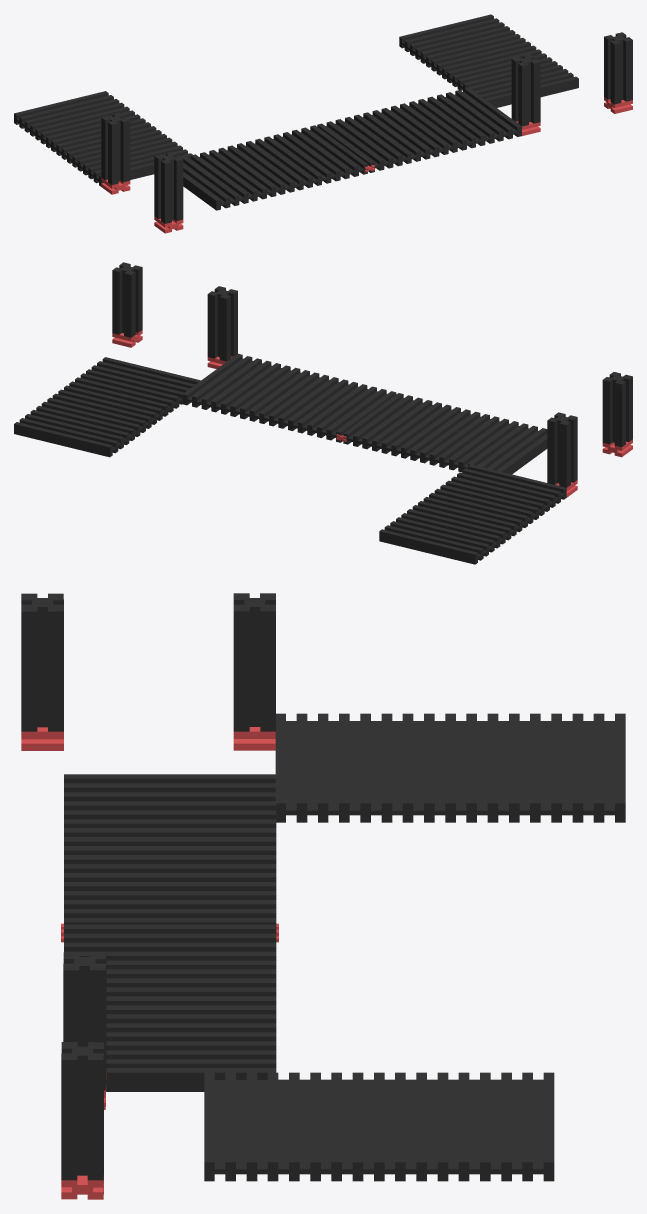
The model's file is sobase.fbx.
3 views of the same model, one above another, from view 1: azimuth 30°, elevation 25°; view 2: azimuth 150°, elevation 25°; view 3: azimuth 270°, elevation 25° (orthographic). The views are drawn at different scales.
Visible parts, largest first — view 1: Cube.272, Cube.273, Cube.277, Cube.276, Cube.070, Cube.159, Cube.158, Cube.069; view 2: Cube.276, Cube.277, Cube.273, Cube.272, Cube.159, Cube.069, Cube.158, Cube.070; view 3: Cube.277, Cube.276, Cube.272, Cube.273, Cube.069, Cube.158, Cube.159, Cube.070, Cube.160, Cube.156, Cube.067.
Boxes of the visible parts, x1,y1,x2,y2 form: Cube.272: (182, 125, 367, 210); Cube.273: (317, 87, 521, 172); Cube.277: (399, 14, 578, 107); Cube.276: (14, 91, 192, 186); Cube.070: (511, 54, 540, 126); Cube.159: (101, 113, 130, 184); Cube.158: (154, 151, 183, 223); Cube.069: (604, 32, 632, 104); Cube.276: (379, 464, 566, 564); Cube.277: (14, 357, 200, 457); Cube.273: (182, 353, 396, 442); Cube.272: (343, 393, 547, 474); Cube.159: (547, 412, 577, 487); Cube.069: (112, 262, 142, 337); Cube.158: (602, 372, 632, 447); Cube.070: (207, 286, 237, 361); Cube.277: (204, 1072, 554, 1181); Cube.276: (275, 713, 625, 822); Cube.272: (64, 774, 276, 924); Cube.273: (64, 924, 276, 1091); Cube.069: (61, 1042, 103, 1180); Cube.158: (21, 593, 63, 731); Cube.159: (233, 593, 275, 731); Cube.070: (63, 952, 106, 1090); Cube.160: (233, 727, 275, 750); Cube.156: (21, 727, 63, 750); Cube.067: (61, 1175, 103, 1199).
Size of the model in its own units: 2081 by 290 by 1139.
